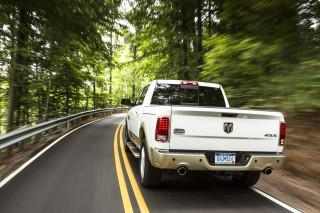ram: (221, 120, 236, 135)
